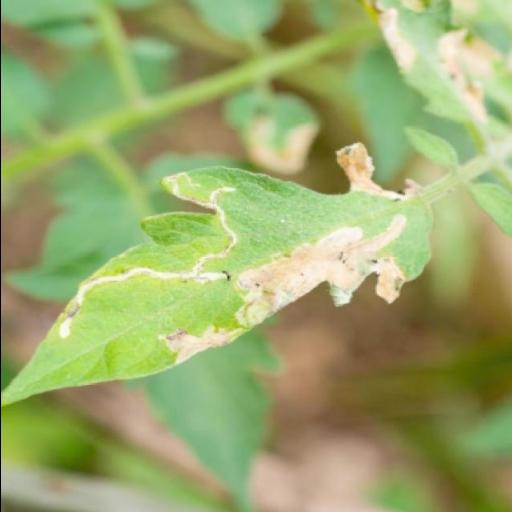disease_tomato: (0, 170, 438, 408)
